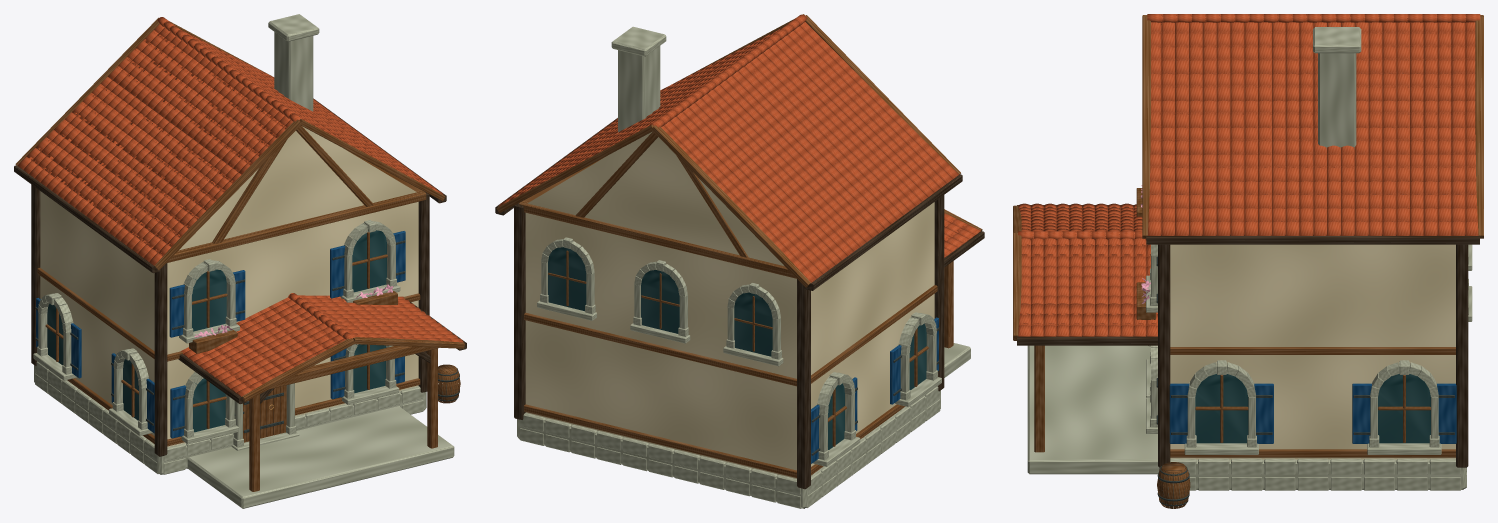
Rendered from farm_cottage.glb.
3 views of the same model, side by side, from view 1: azimuth 30°, elevation 25°; view 2: azimuth 150°, elevation 25°; view 3: azimuth 270°, elevation 25° (orthographic). The views are drawn at different scales.
Parts seen in each view (by area): view 1: farm_cottage.003; view 2: farm_cottage.003; view 3: farm_cottage.003.
Boxes of the visible parts, left/top/right/bottom form: farm_cottage.003: left=14, top=14, right=466, bottom=508; farm_cottage.003: left=495, top=14, right=984, bottom=508; farm_cottage.003: left=1013, top=14, right=1483, bottom=508.
Size of the model in its own units: 9.22 by 9.64 by 9.8.
1 material, 1 textured.
